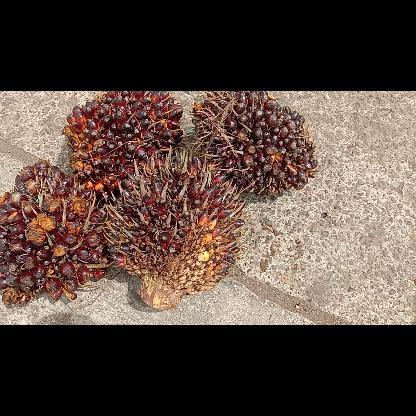Kurang masak: (104, 150, 246, 316), (0, 158, 114, 308), (189, 90, 321, 202), (58, 91, 186, 191)
